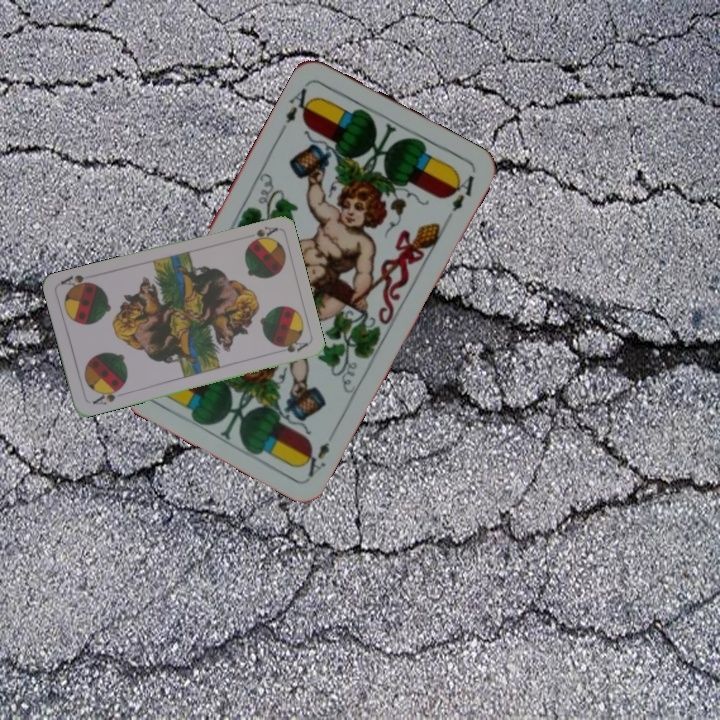EA: (296, 438, 333, 480), (281, 84, 317, 126)
SA: (88, 383, 125, 407), (245, 222, 279, 246)
